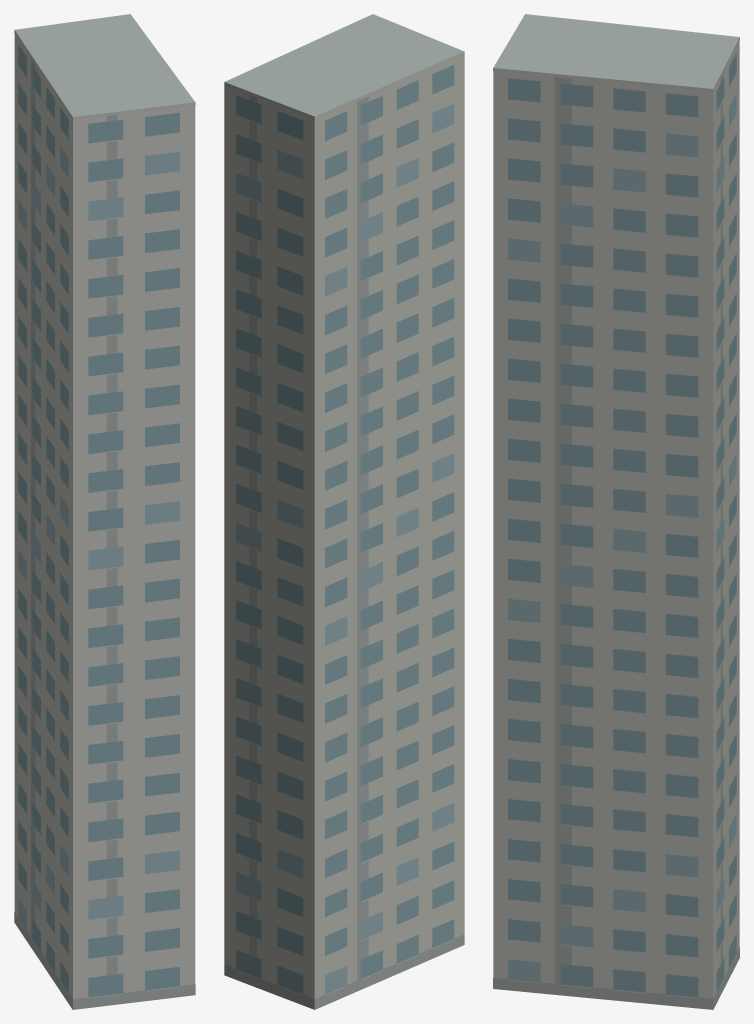
File: survey-upis-32823075.glb
The picture shows the model from 3 angles, left to right: view 1: azimuth 30°, elevation 25°; view 2: azimuth 150°, elevation 25°; view 3: azimuth 270°, elevation 25°; orthographic projection. The views are drawn at different scales.
Visible parts, largest first — view 1: survey-upis-32823075.tmp; view 2: survey-upis-32823075.tmp; view 3: survey-upis-32823075.tmp.
Part boxes in pixels (left/top/right/bottom): survey-upis-32823075.tmp: left=14, top=14, right=195, bottom=1009; survey-upis-32823075.tmp: left=224, top=14, right=464, bottom=1009; survey-upis-32823075.tmp: left=493, top=14, right=739, bottom=1009.
Size of the model in its own units: 12.25 by 70.15 by 17.04.
